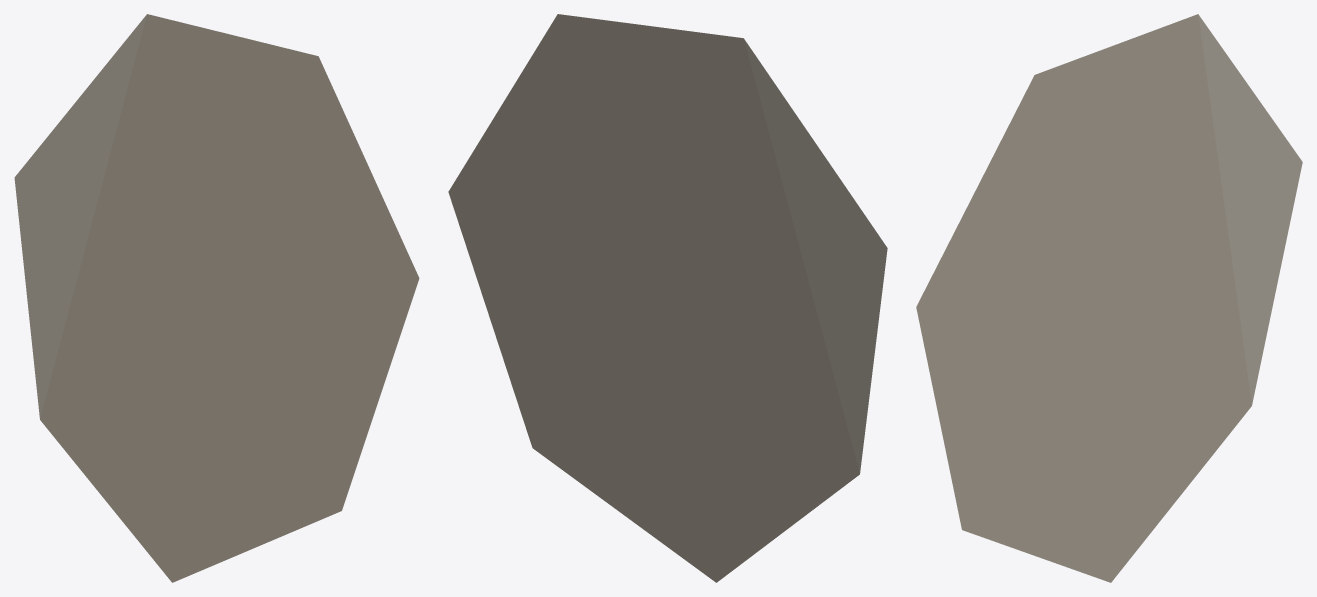
Rendered from SM_MS3_Feed_Eco_07_0.fbx.
The picture shows the model from 3 angles, left to right: view 1: azimuth 30°, elevation 25°; view 2: azimuth 210°, elevation 25°; view 3: azimuth 270°, elevation 25°; orthographic projection. The views are drawn at different scales.
Visible parts, largest first — view 1: SM_MS3_Feed_Eco_07_0; view 2: SM_MS3_Feed_Eco_07_0; view 3: SM_MS3_Feed_Eco_07_0.
Part boxes in pixels (x1=…): SM_MS3_Feed_Eco_07_0: x1=14, y1=14, x2=419, y2=582; SM_MS3_Feed_Eco_07_0: x1=448, y1=14, x2=887, y2=582; SM_MS3_Feed_Eco_07_0: x1=916, y1=14, x2=1302, y2=582.
Bounding box in the file's own units: 1.27 × 1.74 × 2.87.
